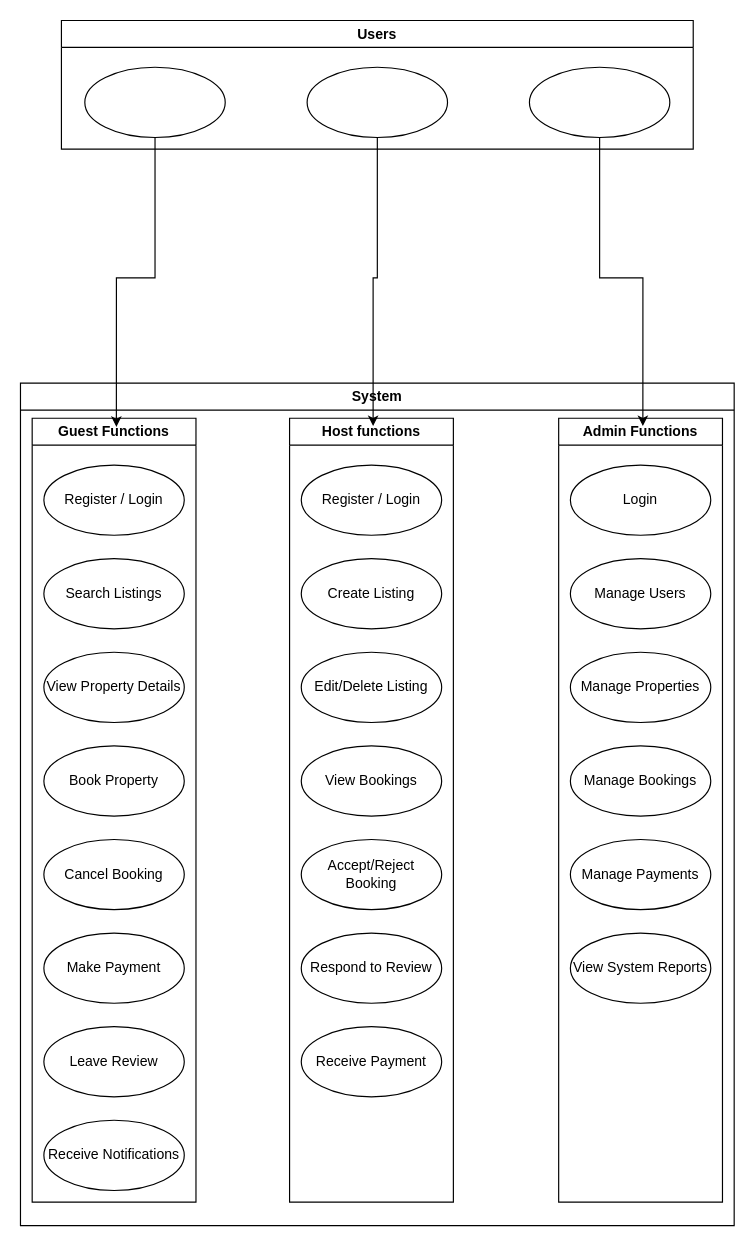
Some shapes in this 755 by 1246 pixel diagram are drawn without their labels. The centre of each missing label's shape, as x and y in pixels:
🏡 Host: (377,101)
👤 Guest: (154,101)
🛡️ Admin: (599,101)
